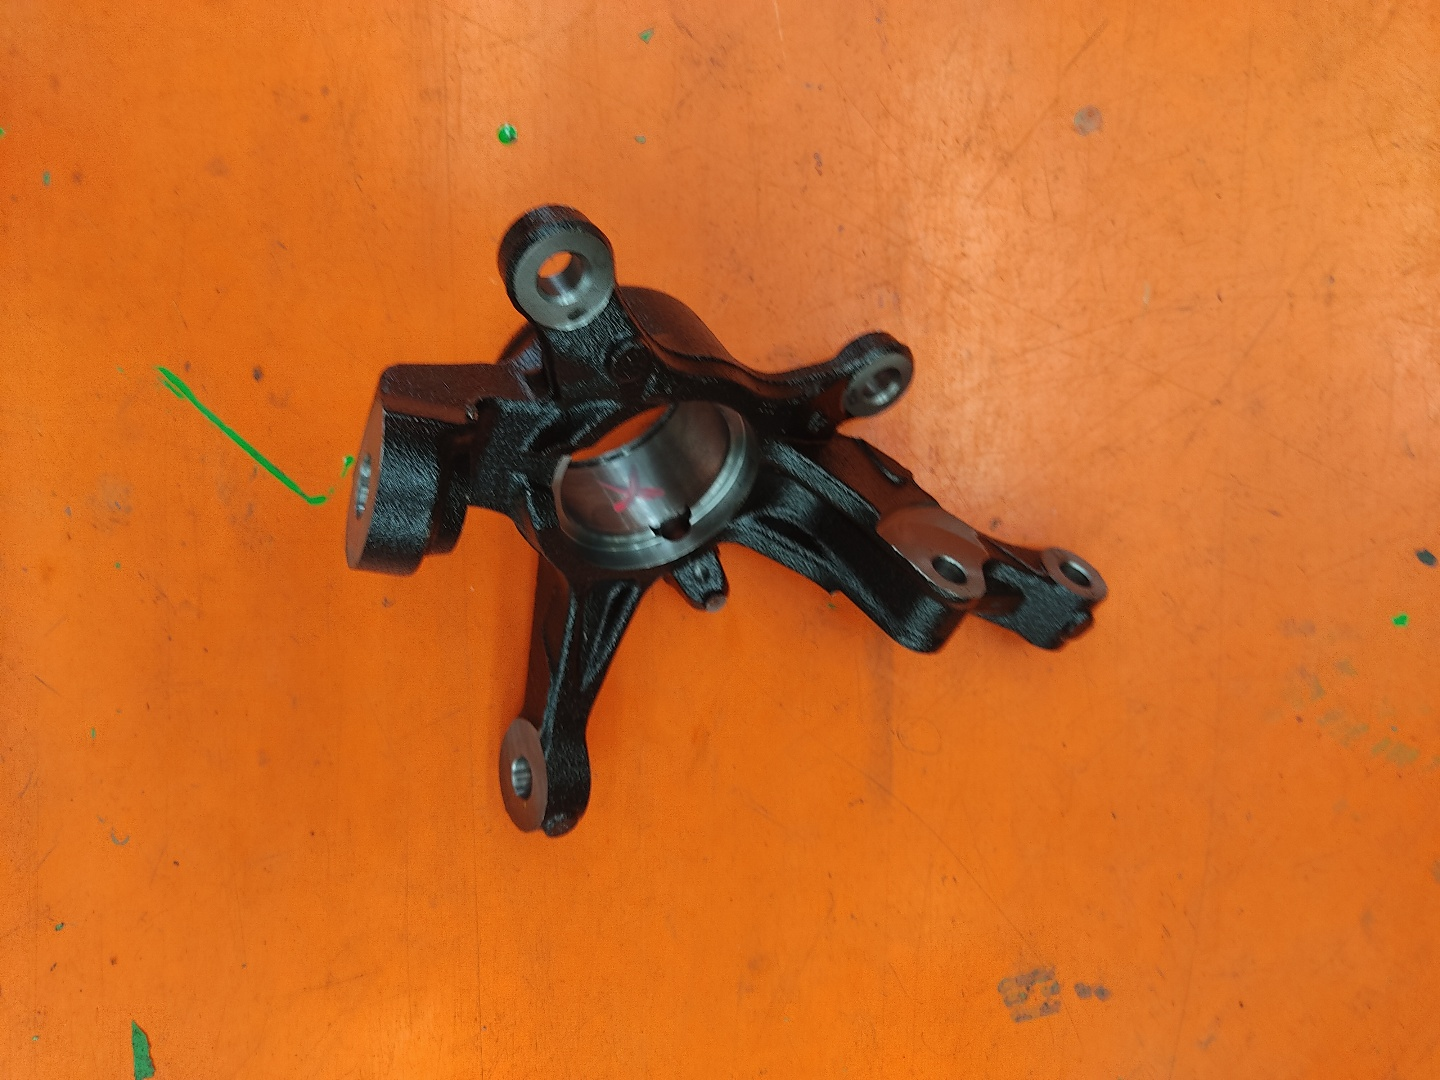abs-rh: (323, 185, 1125, 859)
